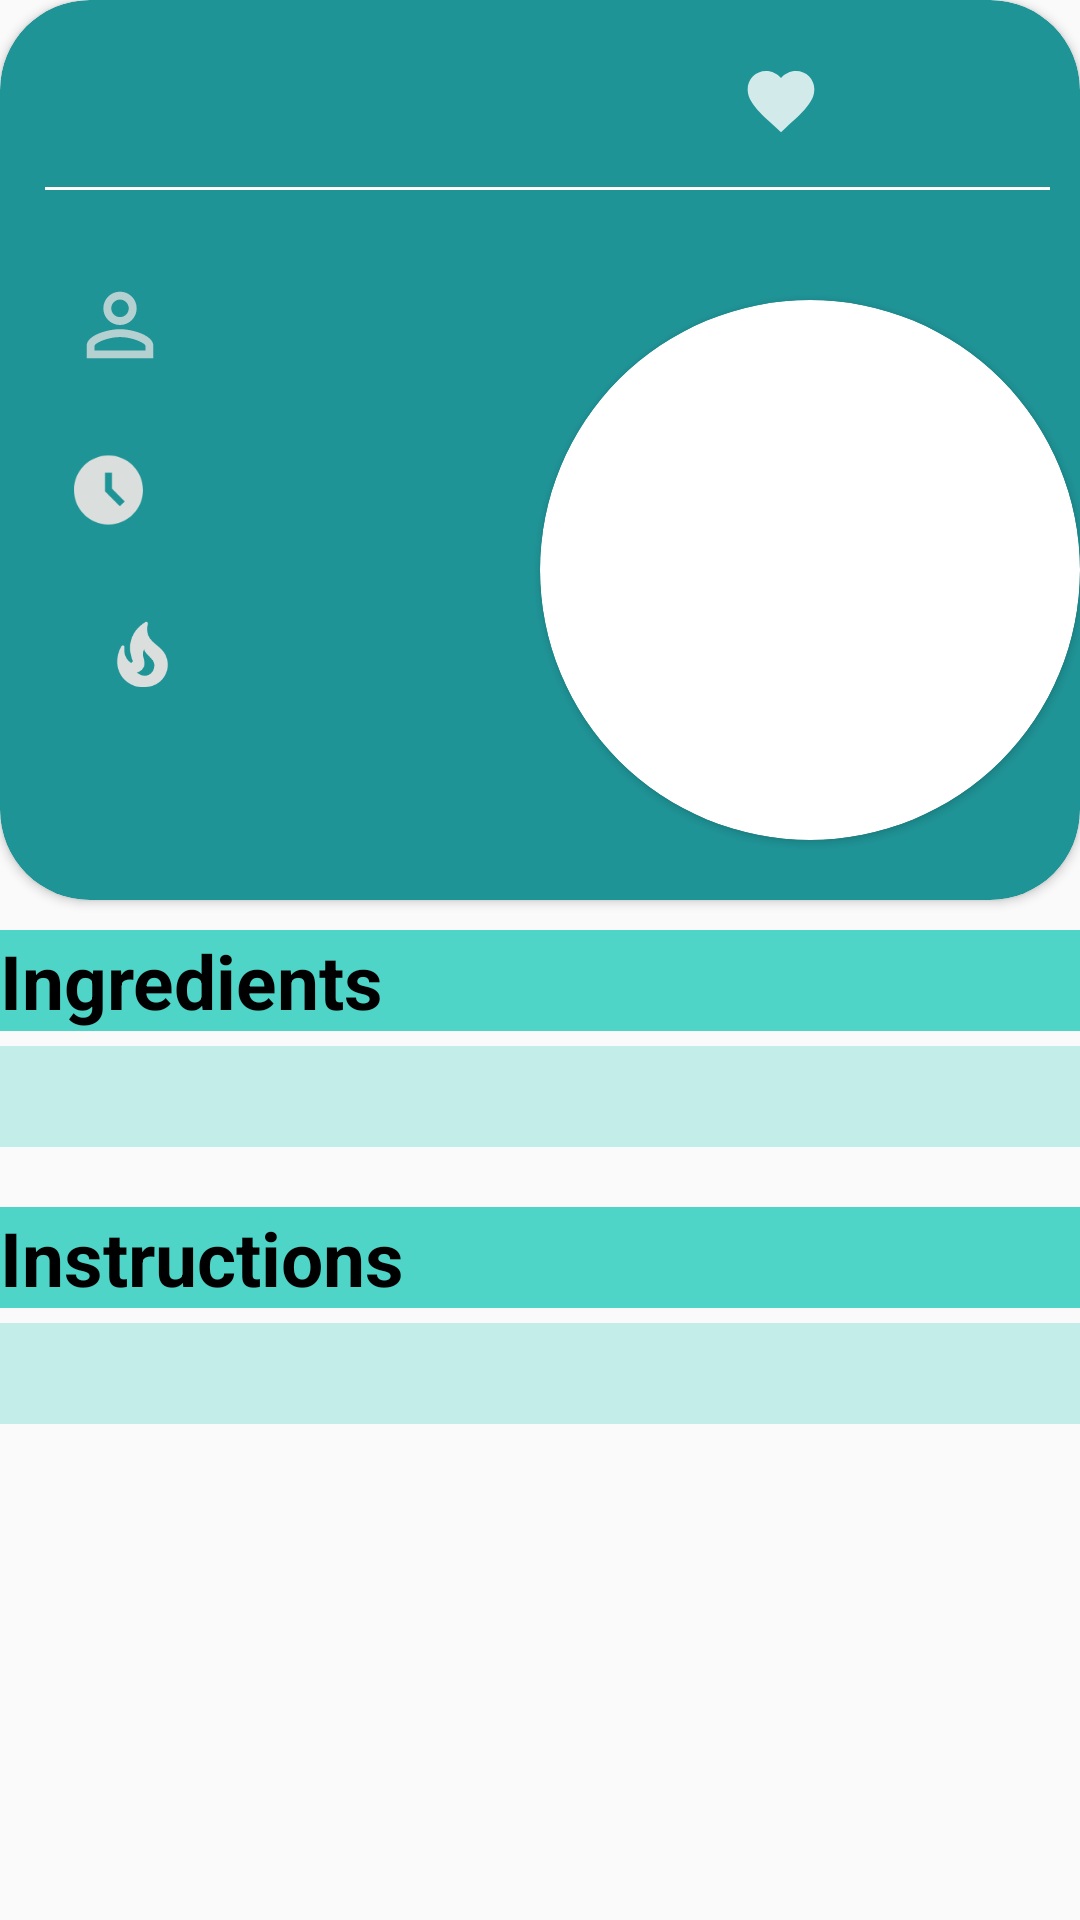

Icon bounding boxes for this 1080 × 1920 phone screenshot, format (x1, y1, x2, y2):
Calories: (117, 621, 168, 687)
Cooking Time (In min): (74, 455, 143, 525)
Favourite Button: (747, 71, 815, 132)
Profile Button: (86, 291, 154, 359)
